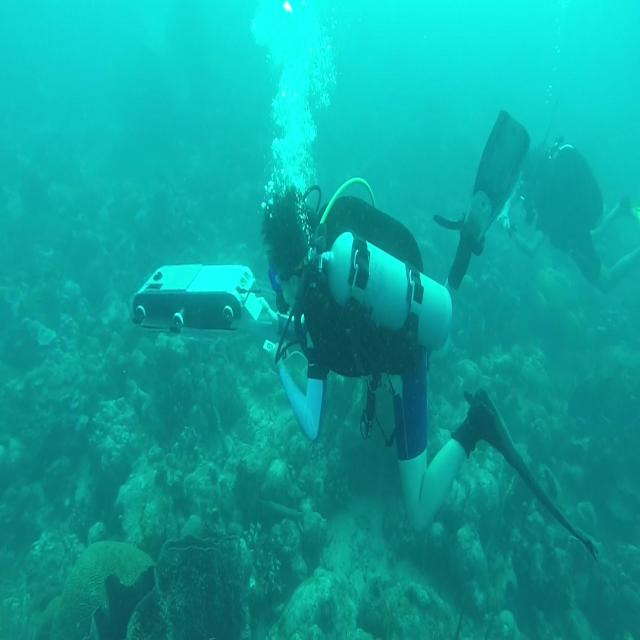human: (258, 110, 600, 562)
